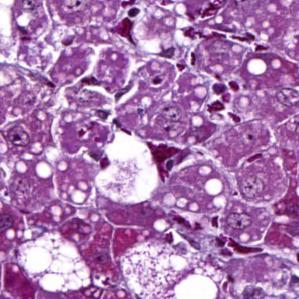ballooning: (92, 129, 162, 206), (16, 231, 93, 294)
